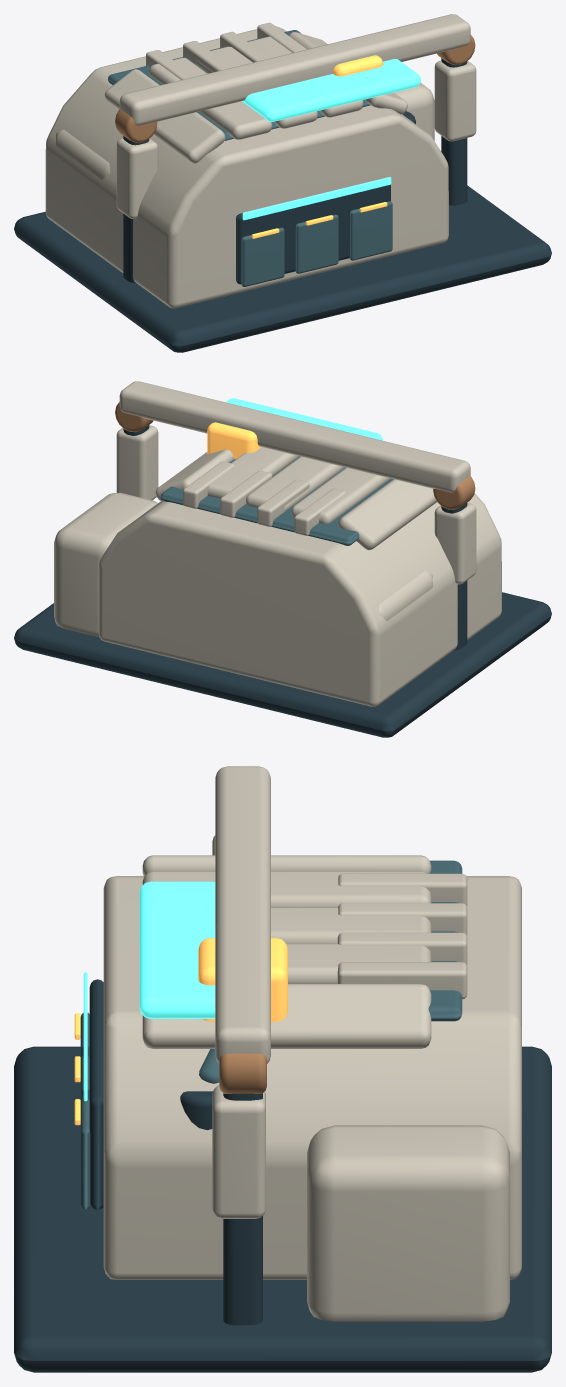
File: equipment.glb
3 renders of one model, top to bottom at view 1: azimuth 30°, elevation 25°; view 2: azimuth 150°, elevation 25°; view 3: azimuth 270°, elevation 25°, orthographic. The views are drawn at different scales.
Parts seen in each view (by area): view 1: Architecture, Hardware; view 2: Architecture, Hardware; view 3: Architecture, Hardware.
Part boxes in pixels (x1=…): Architecture: x1=14, y1=14, x2=551, y2=352; Hardware: x1=333, y1=55, x2=415, y2=123; Architecture: x1=14, y1=381, x2=551, y2=737; Hardware: x1=207, y1=422, x2=261, y2=459; Architecture: x1=14, y1=766, x2=551, y2=1372; Hardware: x1=180, y1=938, x2=287, y2=1130.
Bounding box in the file's own units: 3.6 × 1.83 × 2.7.
